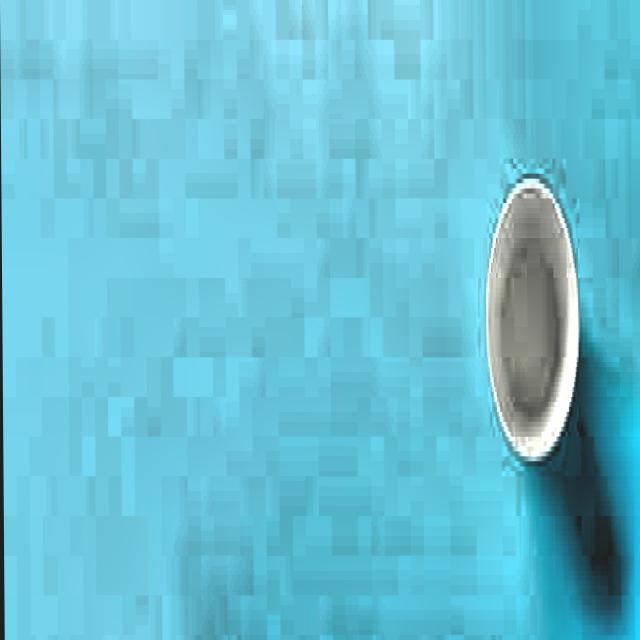Cup: (482, 162, 588, 494)
